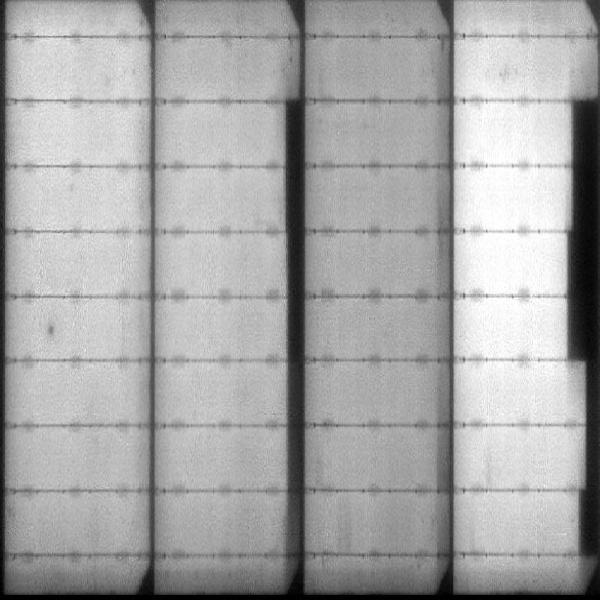black_border: (283, 99, 308, 572), (560, 96, 600, 231), (559, 232, 599, 364), (581, 364, 600, 487), (574, 491, 600, 557)
